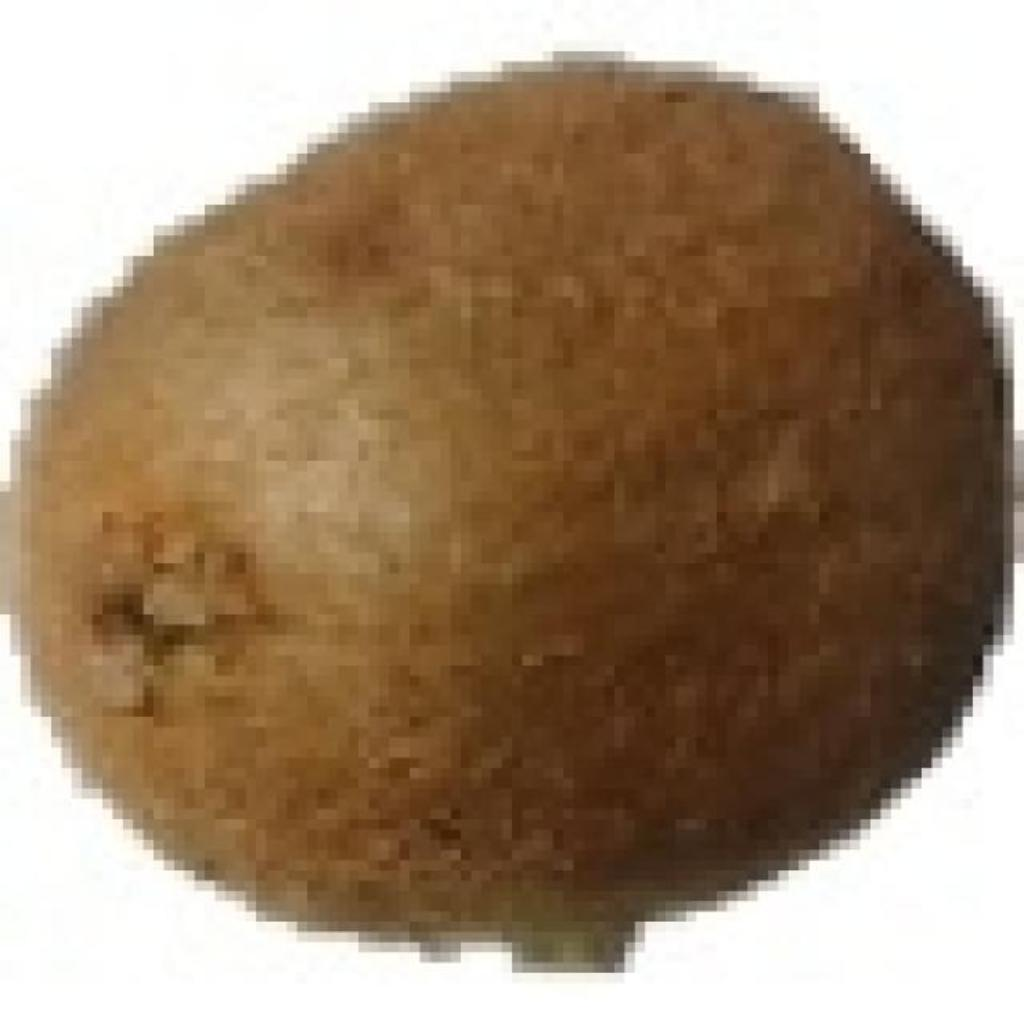kiwi: (10, 51, 983, 942)
